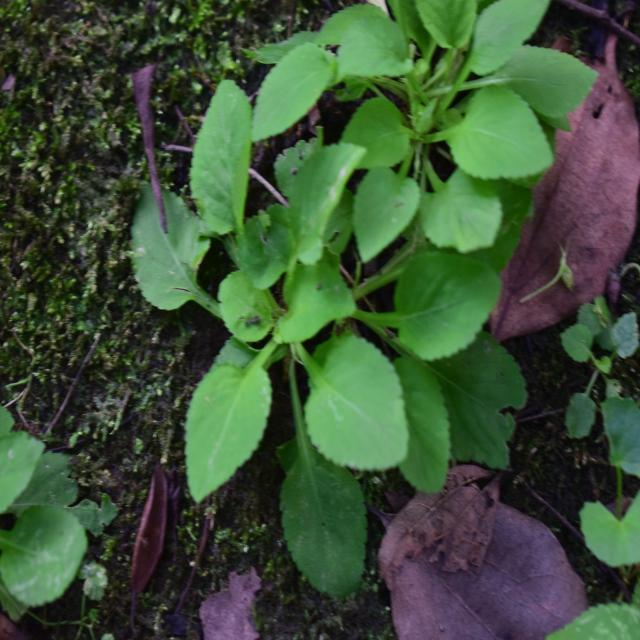Viola: (176, 129, 514, 520)
